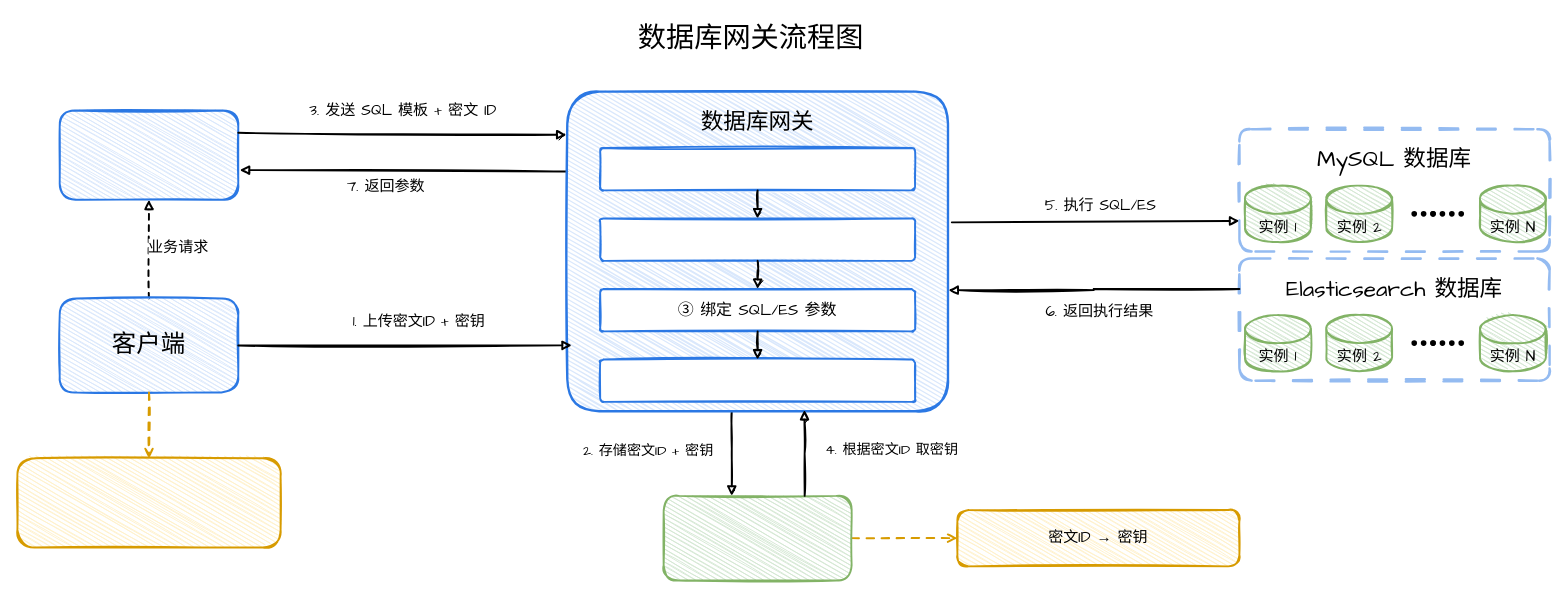
The diagram is 1567 pixels wide and 597 high, and some of its shapes have lost their labels. Here are the shapes that lost their labels. From the top down, the centre of each, then its label:
At point (148, 154): "业务端".
At point (757, 169): "① 查 Redis".
At point (757, 239): "② 解密得到明文 ID".
At point (757, 380): "④ 执行 SQL/ES".
At point (148, 502): "SQL 模板示例 select * from xxx where id = :plaintextId".
At point (757, 537): "Redis".
